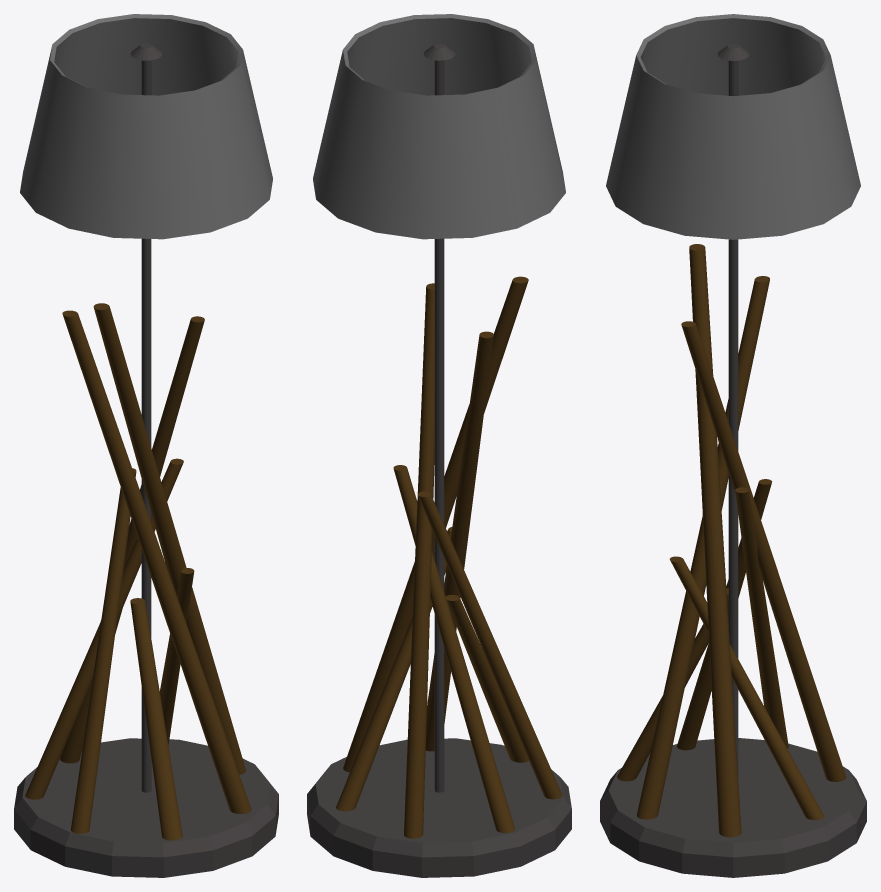
Rendered from SM_Lamp.fbx.
The picture shows the model from 3 angles, left to right: view 1: azimuth 30°, elevation 25°; view 2: azimuth 150°, elevation 25°; view 3: azimuth 270°, elevation 25°; orthographic projection.
Visible parts, largest first — view 1: SM_Lamp, SM_Sticks, SM_Base, SM_Pole; view 2: SM_Lamp, SM_Sticks, SM_Base, SM_Pole; view 3: SM_Lamp, SM_Sticks, SM_Base, SM_Pole.
Part boxes in pixels (left/top/right/bottom): SM_Lamp: left=20, top=14, right=272, bottom=239; SM_Sticks: left=25, top=303, right=251, bottom=840; SM_Base: left=14, top=738, right=278, bottom=877; SM_Pole: left=130, top=43, right=162, bottom=792; SM_Lamp: left=313, top=14, right=565, bottom=239; SM_Sticks: left=336, top=276, right=562, bottom=838; SM_Base: left=307, top=738, right=571, bottom=877; SM_Pole: left=423, top=43, right=455, bottom=792; SM_Lamp: left=606, top=14, right=860, bottom=239; SM_Sticks: left=617, top=244, right=846, bottom=837; SM_Base: left=600, top=738, right=866, bottom=877; SM_Pole: left=717, top=43, right=749, bottom=777.
Size of the model in its own units: 63.69 by 204 by 63.69.
